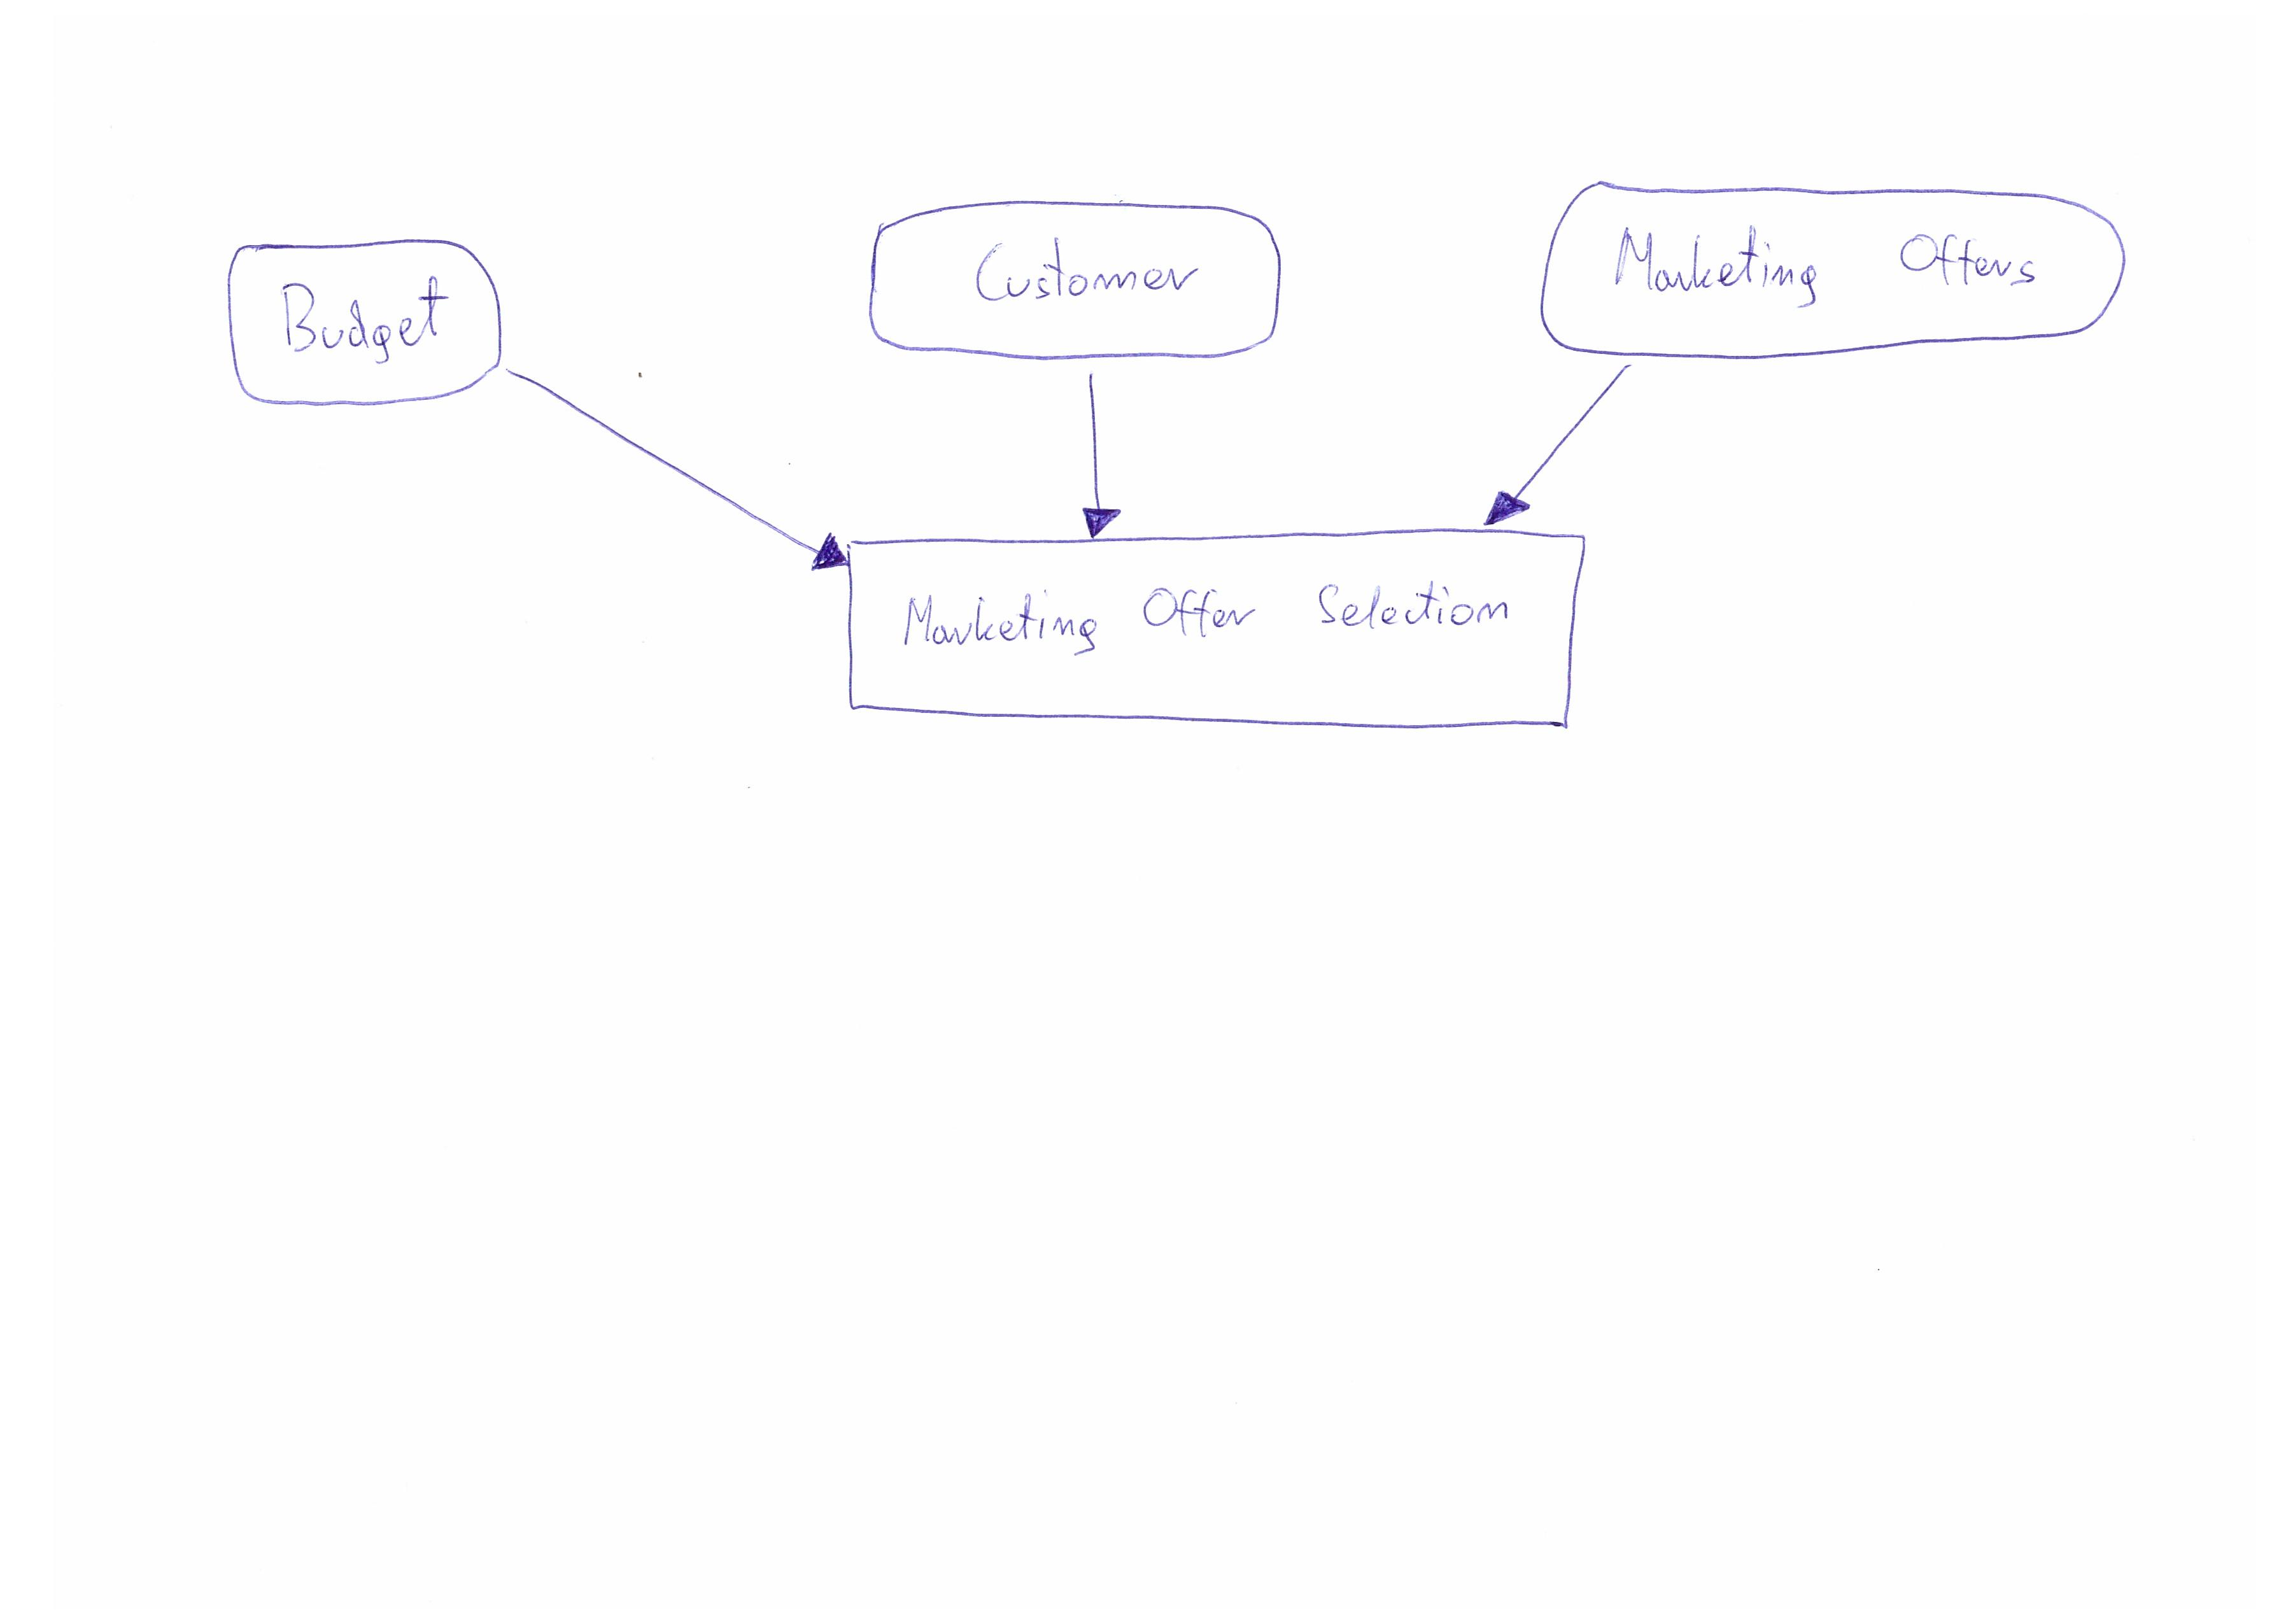arrow_information_requirement: (501, 362, 852, 585), (1469, 357, 1655, 533), (1065, 362, 1119, 540)
node_decision: (847, 527, 1590, 740)
node_input_data: (1525, 163, 2142, 364), (859, 181, 1297, 371), (202, 228, 513, 418)
text: (900, 569, 1520, 673), (1608, 213, 2061, 313), (968, 223, 1216, 316), (269, 271, 457, 373)
